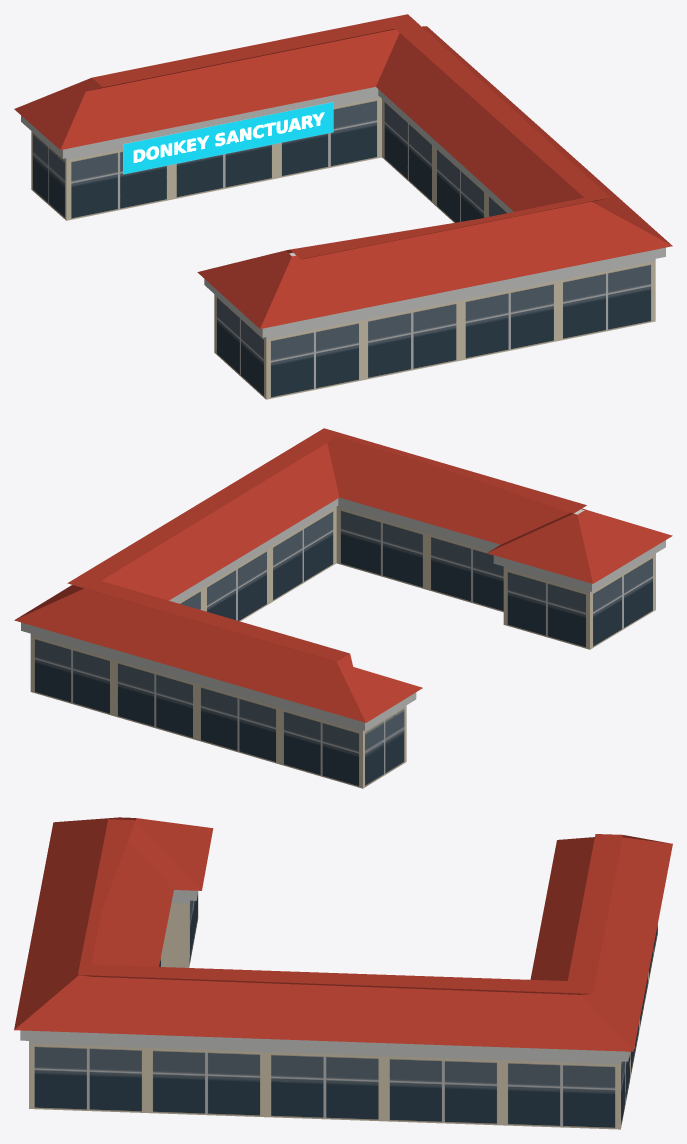
The model's file is donkeysanctuary.glb.
3 renders of one model, top to bottom at view 1: azimuth 30°, elevation 25°; view 2: azimuth 150°, elevation 25°; view 3: azimuth 270°, elevation 25°, orthographic. The views are drawn at different scales.
Visible parts, largest first — view 1: donkeysanctuary_lod0; view 2: donkeysanctuary_lod0; view 3: donkeysanctuary_lod0.
Part boxes in pixels (left/top/right/bottom): donkeysanctuary_lod0: left=14, top=14, right=672, bottom=399; donkeysanctuary_lod0: left=14, top=428, right=672, bottom=788; donkeysanctuary_lod0: left=14, top=817, right=672, bottom=1129.
Size of what is drawn, in the model's own units: 23.4 by 5.8 by 28.39.
Materials: 4 (2 with a texture image).
